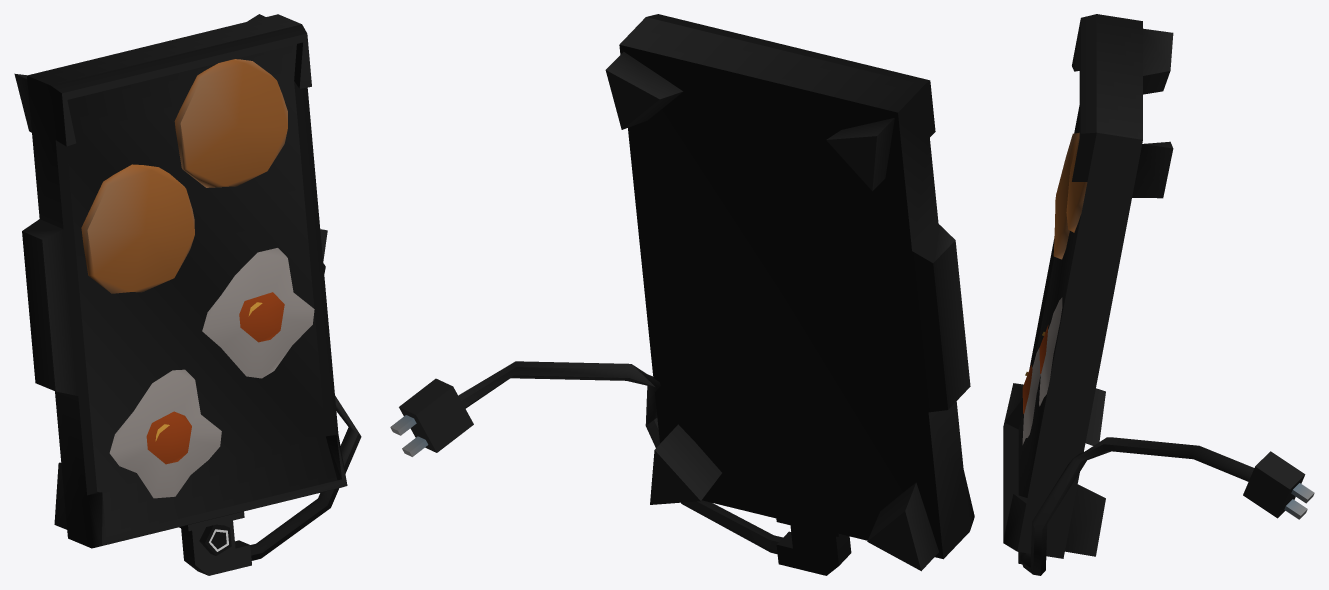
File: hat_premium_Griddle.glb
3 views of the same model, side by side, from view 1: azimuth 30°, elevation 25°; view 2: azimuth 150°, elevation 25°; view 3: azimuth 270°, elevation 25° (orthographic). The views are drawn at different scales.
Parts seen in each view (by area): view 1: hat_premium_Griddle; view 2: hat_premium_Griddle; view 3: hat_premium_Griddle.
Boxes of the visible parts, left/top/right/bottom form: hat_premium_Griddle: left=14, top=14, right=361, bottom=575; hat_premium_Griddle: left=390, top=14, right=974, bottom=575; hat_premium_Griddle: left=1003, top=14, right=1314, bottom=575.
Bounding box in the file's own units: 0.4402 × 0.5282 × 0.3125.
